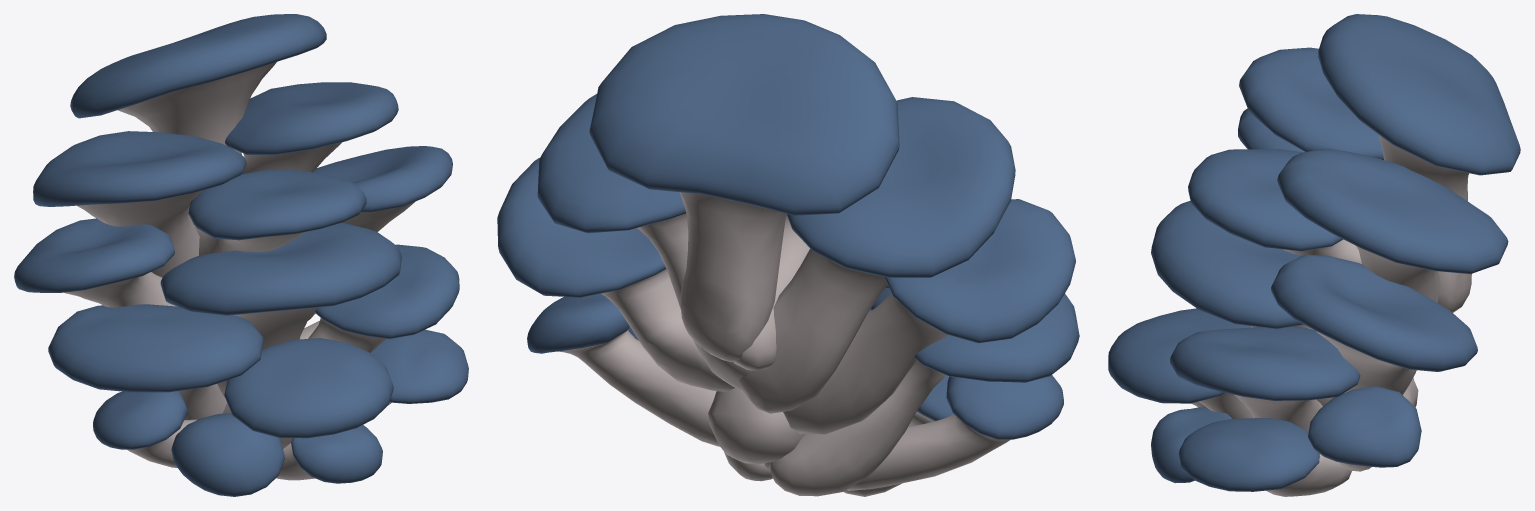
File: BlueOysterCluster03.fbx
3 renders of one model, left to right at view 1: azimuth 30°, elevation 25°; view 2: azimuth 150°, elevation 25°; view 3: azimuth 270°, elevation 25°, orthographic. The views are drawn at different scales.
Parts seen in each view (by area): view 1: Merged_BlueOyster07_withUV3_1; view 2: Merged_BlueOyster07_withUV3_1; view 3: Merged_BlueOyster07_withUV3_1.
Part boxes in pixels (x1,y1,x2,y2): Merged_BlueOyster07_withUV3_1: (14, 14, 468, 496); Merged_BlueOyster07_withUV3_1: (497, 14, 1079, 496); Merged_BlueOyster07_withUV3_1: (1108, 14, 1520, 496).
Bounding box in the file's own units: 3.85 × 3.47 × 2.91.
